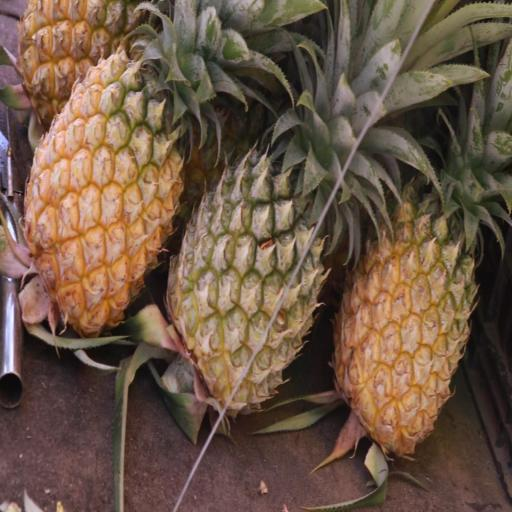Pineapple - v8 v1: (21, 0, 189, 350), (332, 86, 486, 461)
